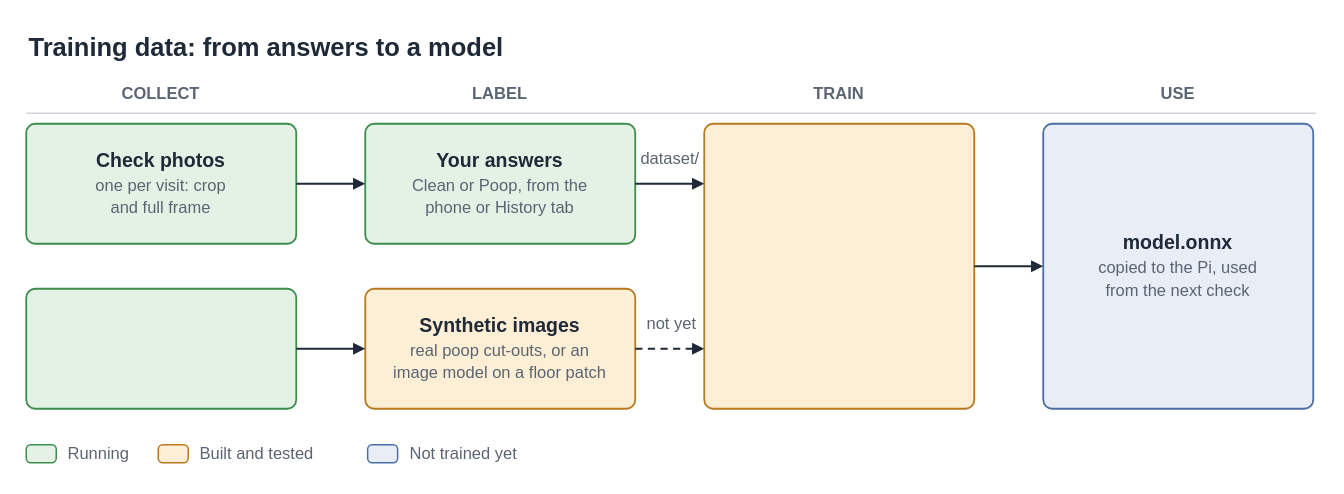
Some shapes in this 1344 by 494 pixel diagram are drawn without their labels. Here are the shapes that lost their labels. From the top down, the box of each, then its label:
(703, 122, 974, 409): train.py on a PC YOLO11n classifier, 320 px; needs 20 poop photos
(25, 287, 296, 409): Empty patio frames every 30 min, day and night
